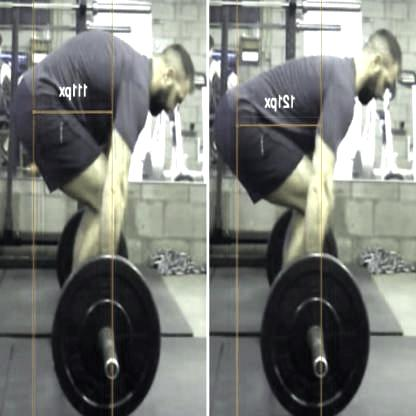Barbell: (101, 358, 119, 382), (312, 354, 327, 380)
